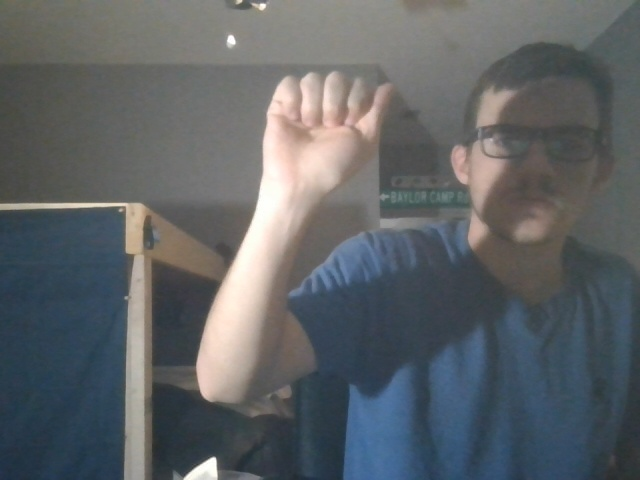A: (254, 67, 396, 200)
